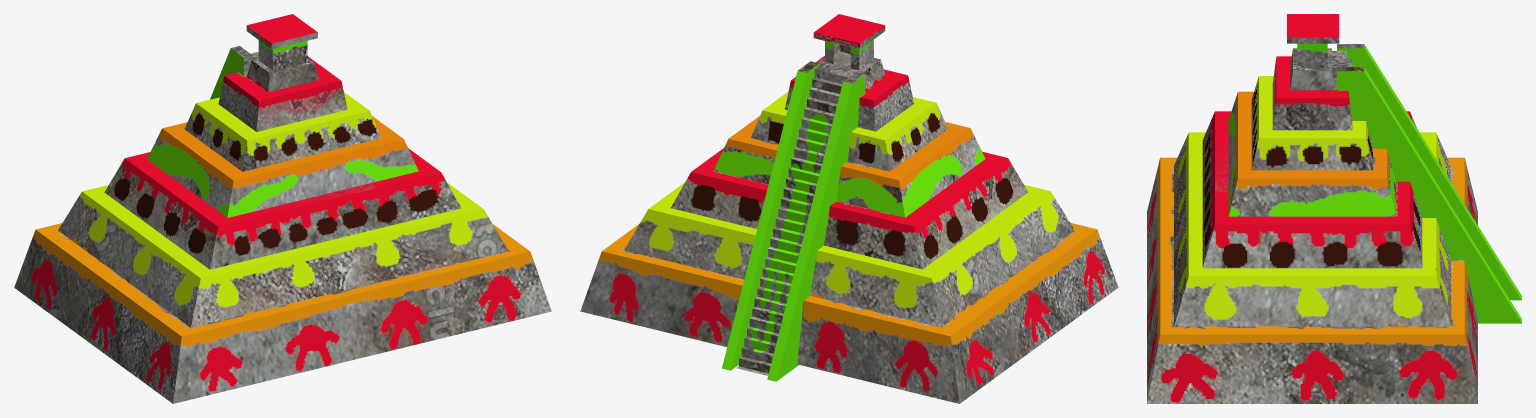
Rendered from Piramide2.obj.
The picture shows the model from 3 angles, left to right: view 1: azimuth 30°, elevation 25°; view 2: azimuth 150°, elevation 25°; view 3: azimuth 270°, elevation 25°; orthographic projection. The views are drawn at different scales.
Visible parts, largest first — view 1: Cube.001; view 2: Cube.001; view 3: Cube.001.
Part boxes in pixels (x1,y1,x2,y2): Cube.001: [14, 14, 551, 403]; Cube.001: [580, 14, 1118, 403]; Cube.001: [1147, 14, 1521, 403].
Bounding box in the file's own units: 16.56 × 11.46 × 13.63.
Materials: 1 (1 with a texture image).
